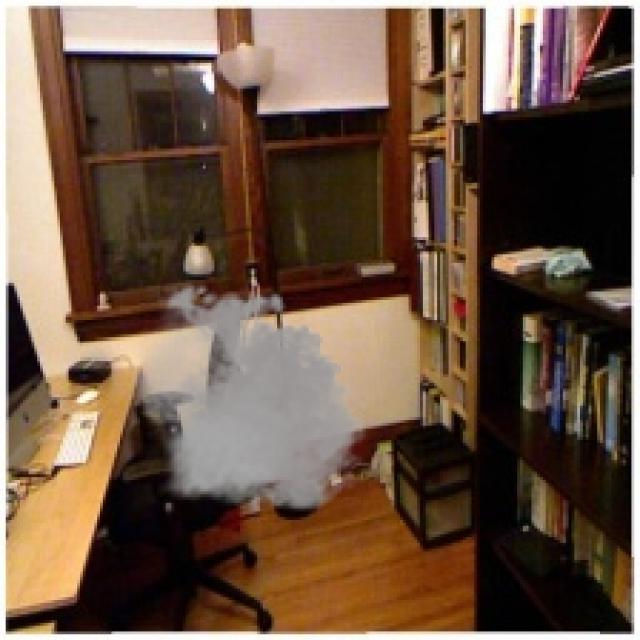smoke: (126, 277, 374, 520)
